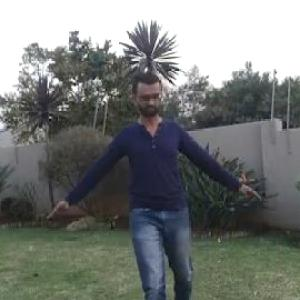land: (85, 55, 236, 299)
